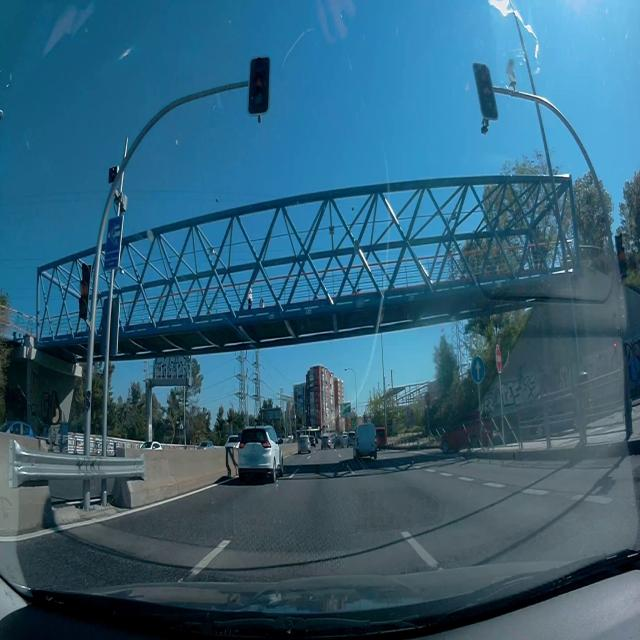car: (236, 424, 284, 483), (352, 422, 378, 460), (0, 421, 35, 436), (374, 426, 388, 450), (297, 436, 312, 454), (138, 440, 164, 450), (225, 433, 241, 448), (320, 436, 332, 450), (345, 433, 356, 447), (197, 441, 214, 448), (308, 436, 317, 446)
